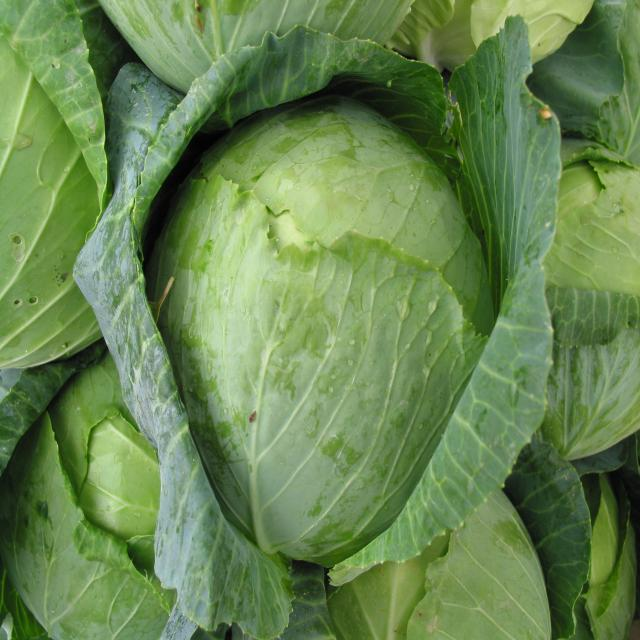cabbage: (74, 19, 566, 596)
